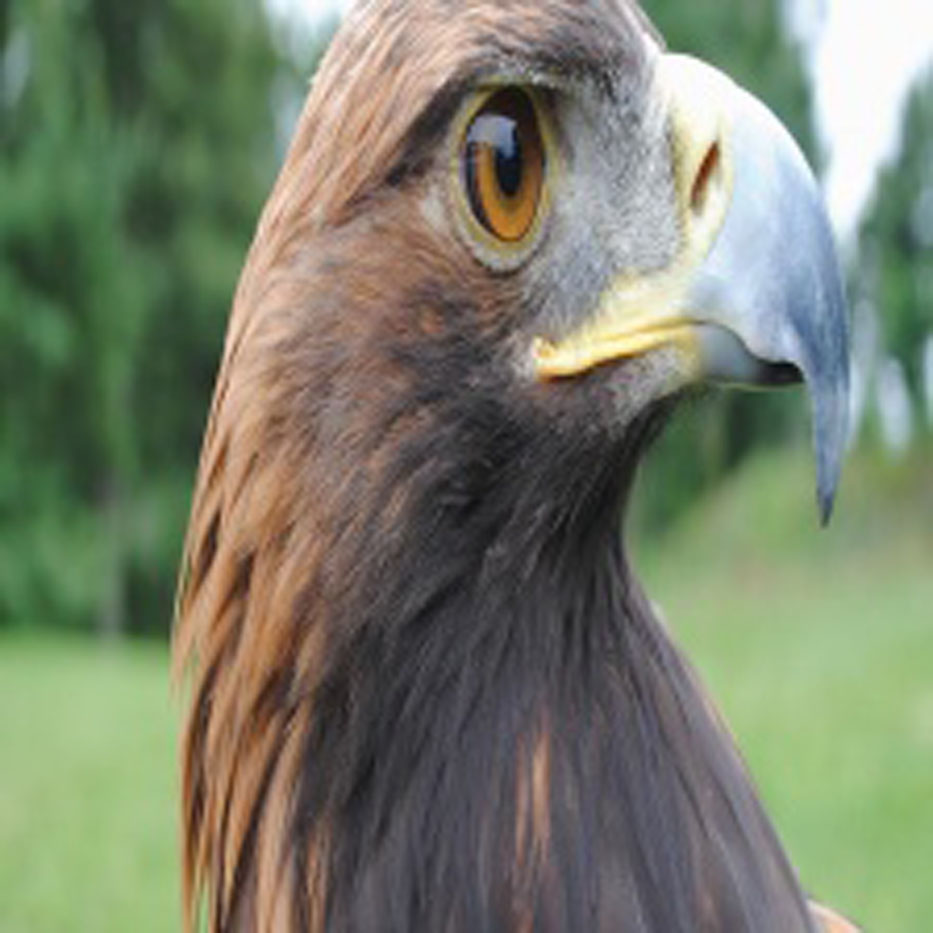Pengoyak Daging: (697, 74, 877, 562)
